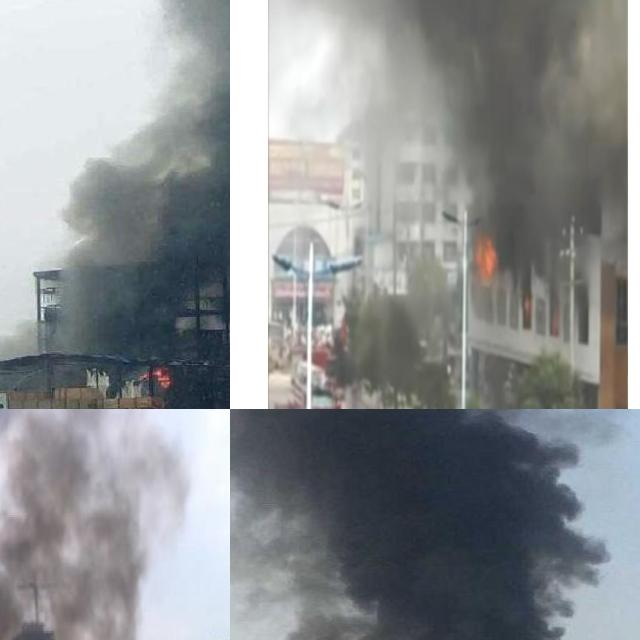fire: (472, 232, 499, 282), (143, 366, 172, 387)
smoke: (269, 0, 626, 266), (230, 409, 615, 640), (0, 0, 230, 367), (0, 409, 193, 640)
